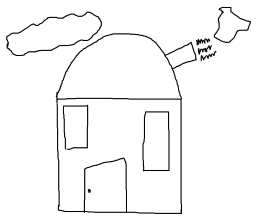clouds: (5, 9, 103, 57), (212, 6, 252, 43)
door: (78, 157, 130, 214)
open_window: (142, 111, 170, 172), (63, 105, 87, 149)
roof: (53, 33, 184, 103)
smoking_chimney: (164, 33, 219, 70)
wall: (52, 93, 185, 217)
